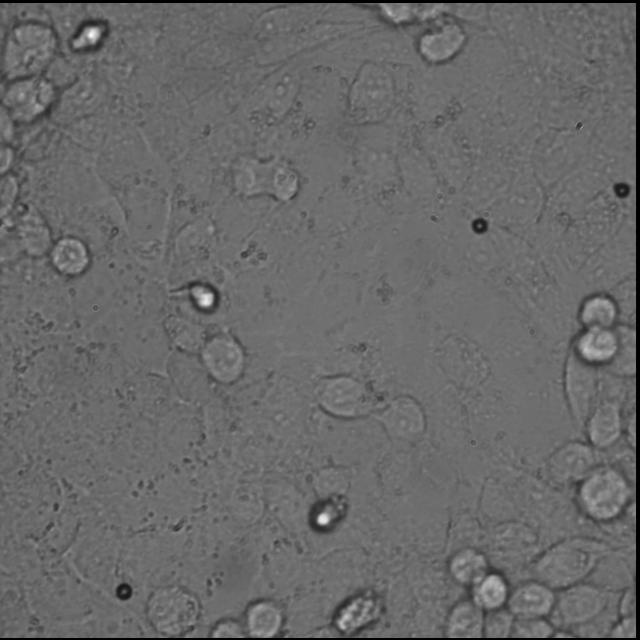microbeads: (472, 216, 490, 234), (115, 583, 133, 601), (614, 182, 630, 195)
